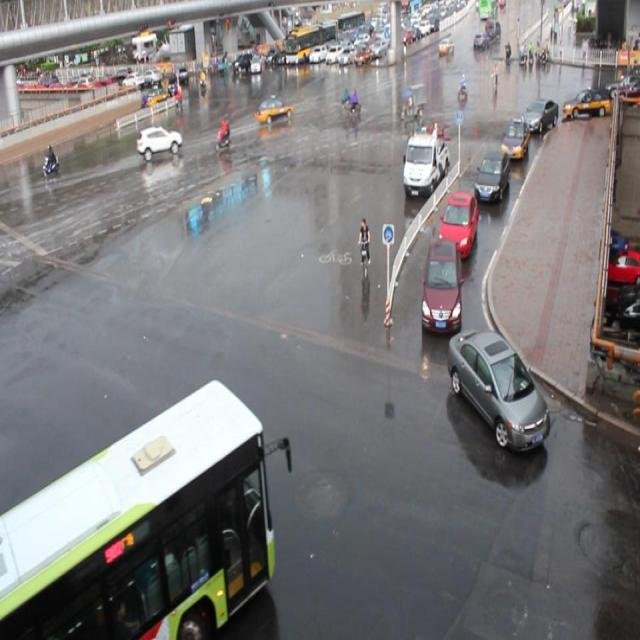bus: (401, 127, 448, 200)
car: (446, 326, 548, 450), (420, 239, 461, 331), (436, 192, 476, 256), (473, 149, 507, 202), (136, 125, 182, 156), (522, 96, 557, 133), (499, 117, 528, 159), (255, 95, 293, 125)
van: (1, 380, 272, 640)
